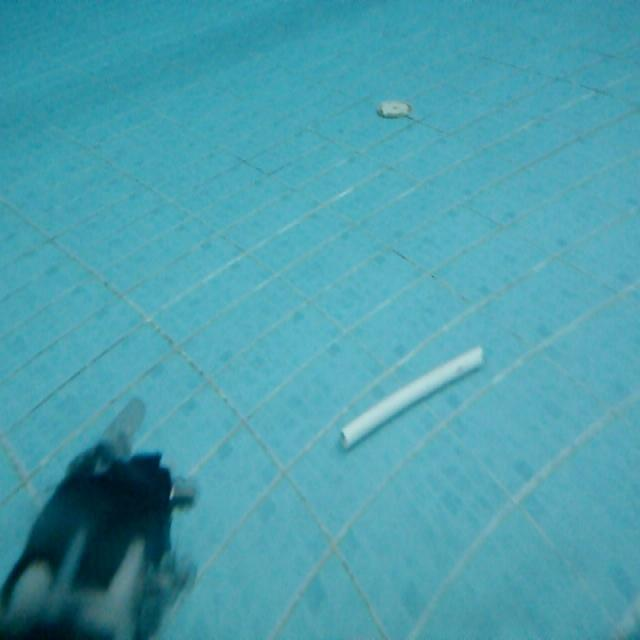Cube: (335, 340, 486, 452)
